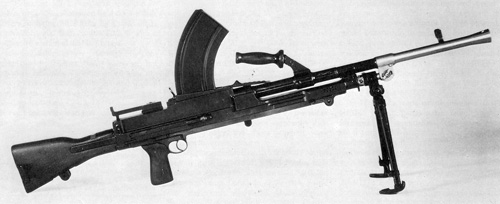rifle: (13, 23, 489, 194)
